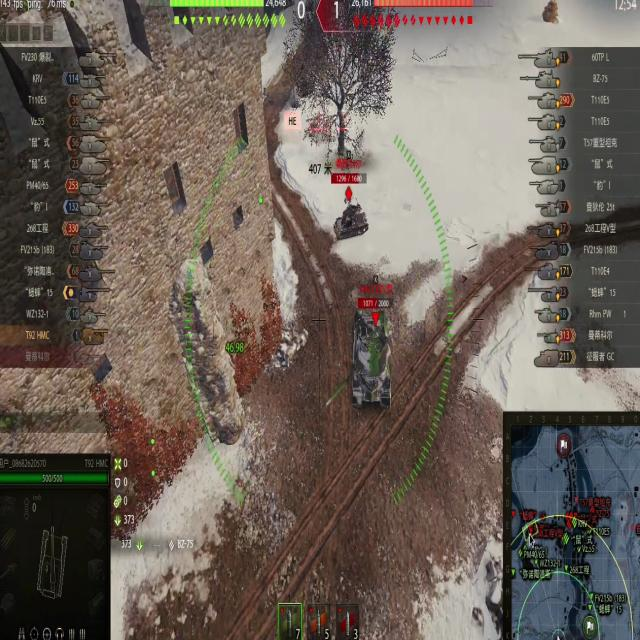tank: (337, 288, 410, 415), (327, 172, 373, 244)
